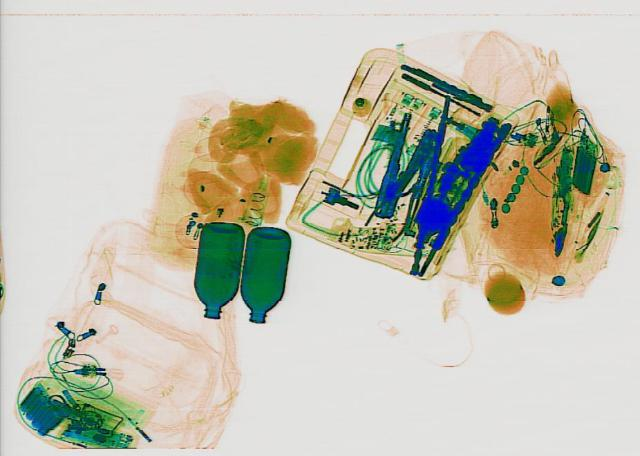Pliers: (358, 120, 442, 219)
